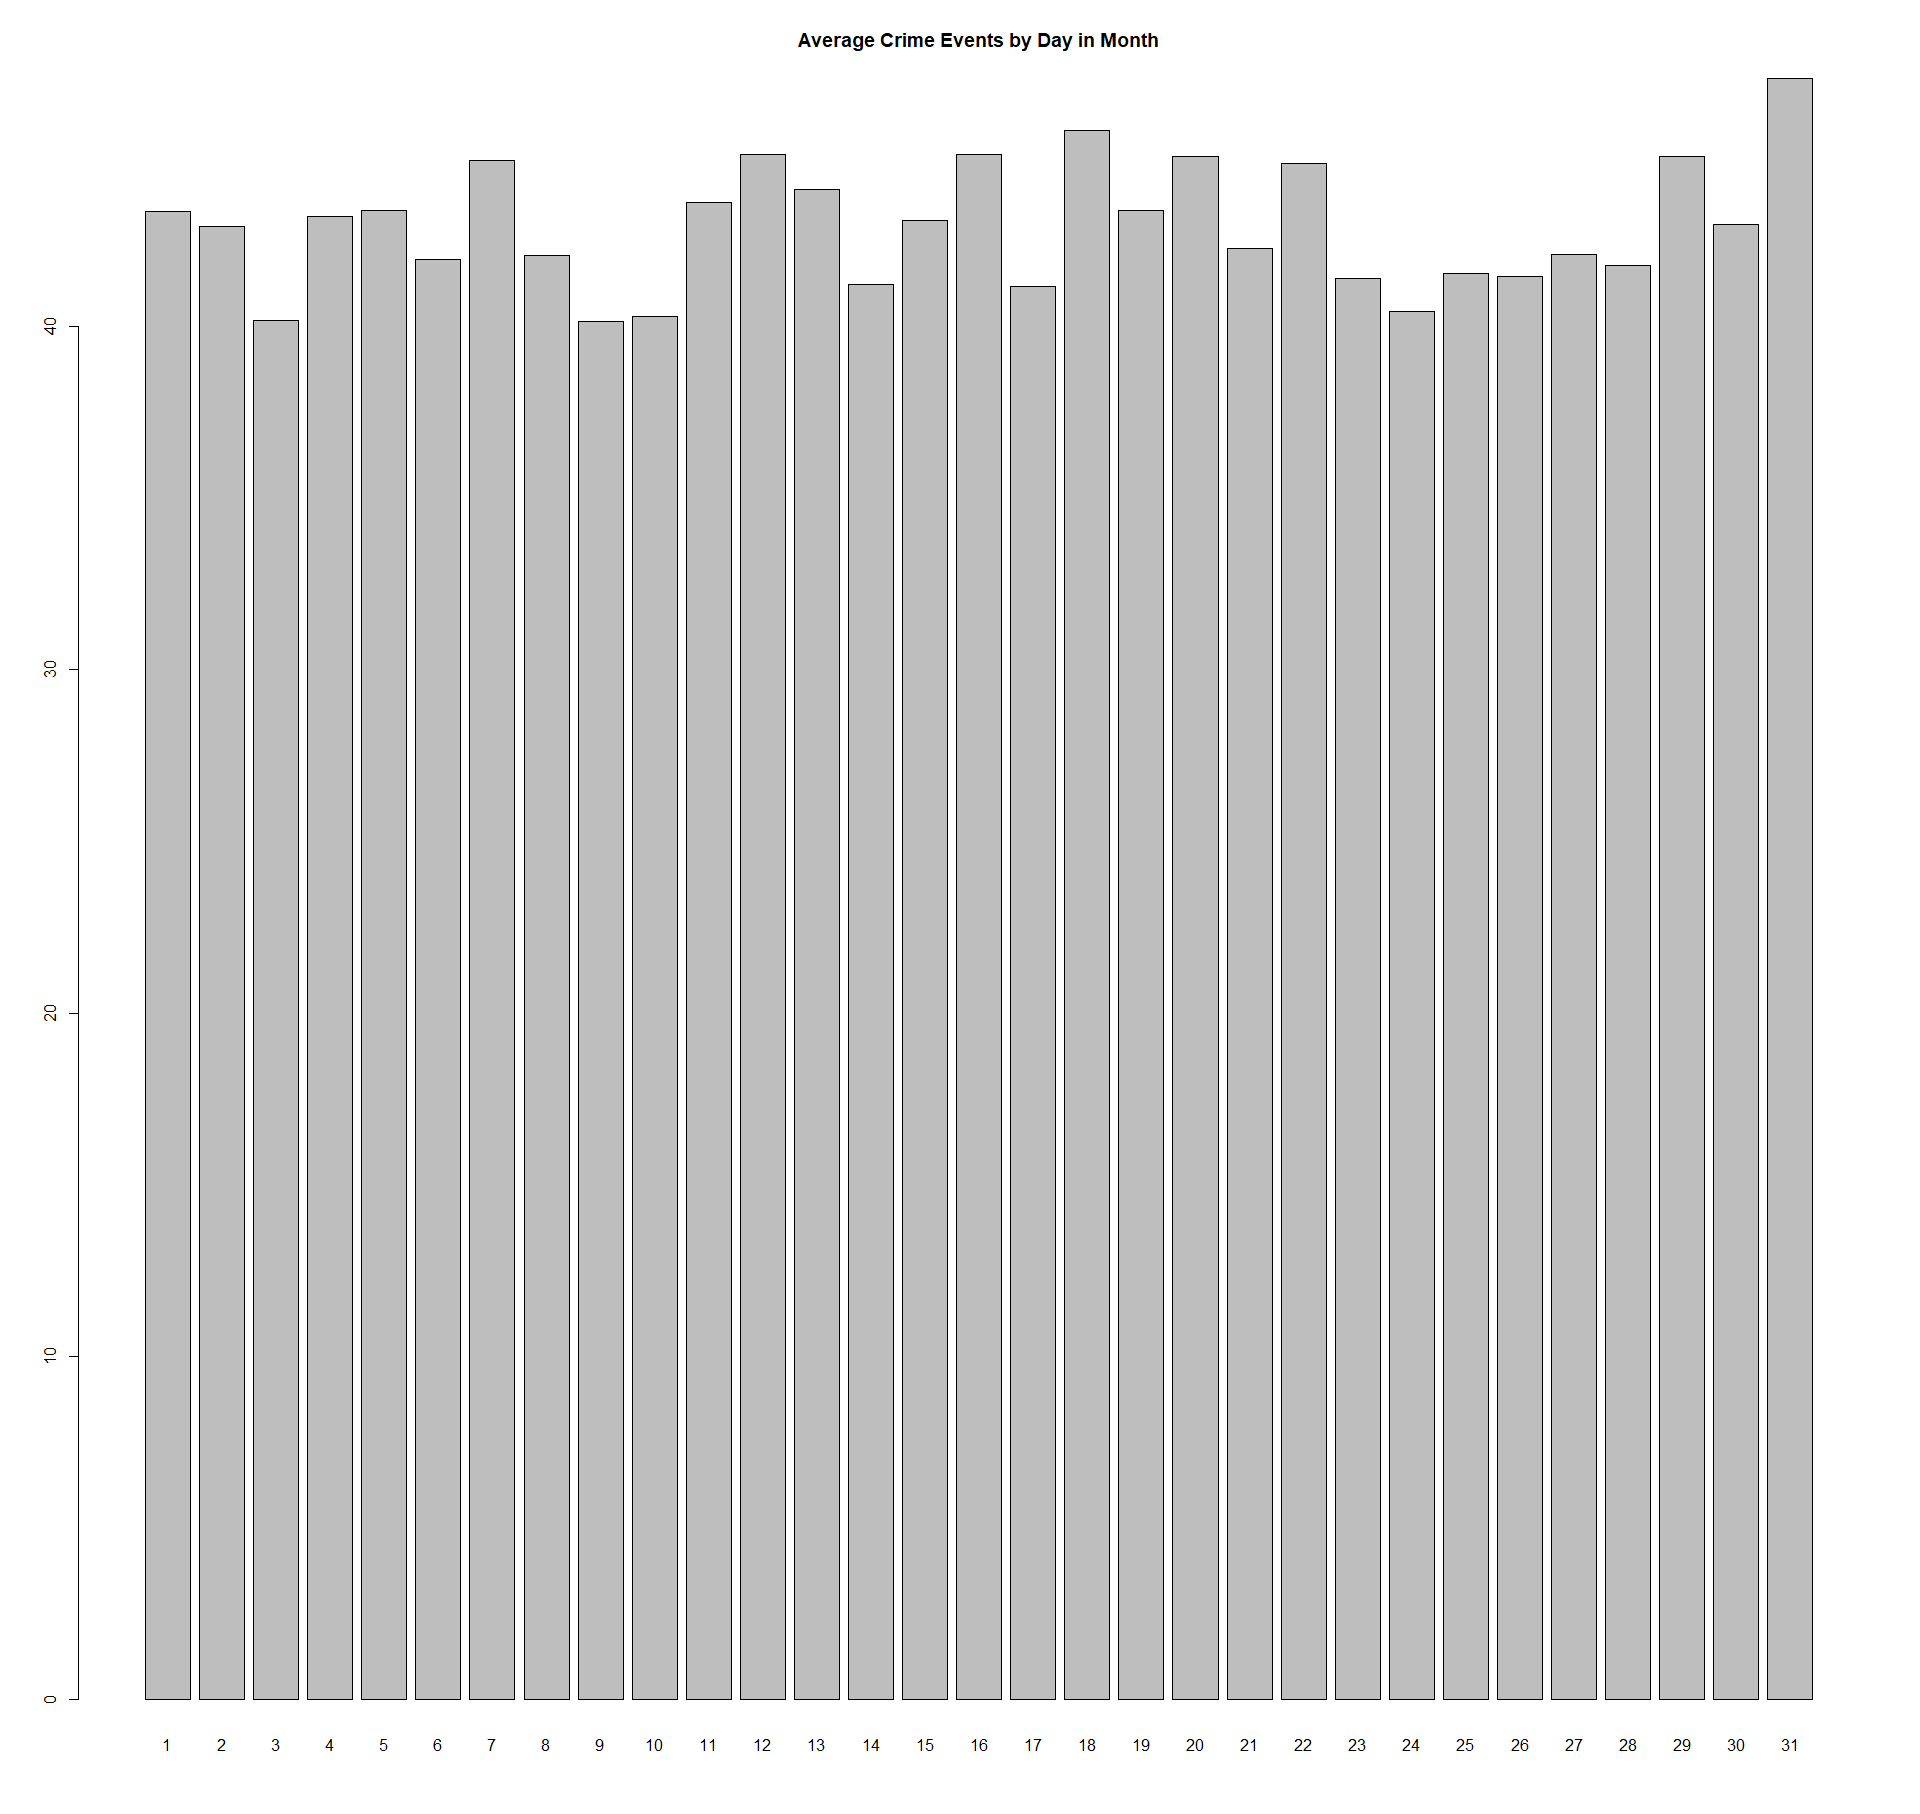

Layout of this report page (visuals, bound fields, positions):
{"tool":"tableau","page":{"name":"Dashboard 1","canvas":[1000,800],"ordinal":0},"visuals":[{"type":"worksheet","title":"Sheet 2","mark":"Bar","rows":["c_violation"],"cols":["j_finding","date2"],"box":[8,8,984,784]}]}

Visuals, with their boxes on the page's 1000x800 design canvas (x1, y1, x2, y2). These are canvas units, not pixel positions in the 1920x1814 screenshot, which may show the page scaled, cropped or inside an application window:
"Sheet 2" worksheet (Bar marks): bbox(8, 8, 992, 792)
